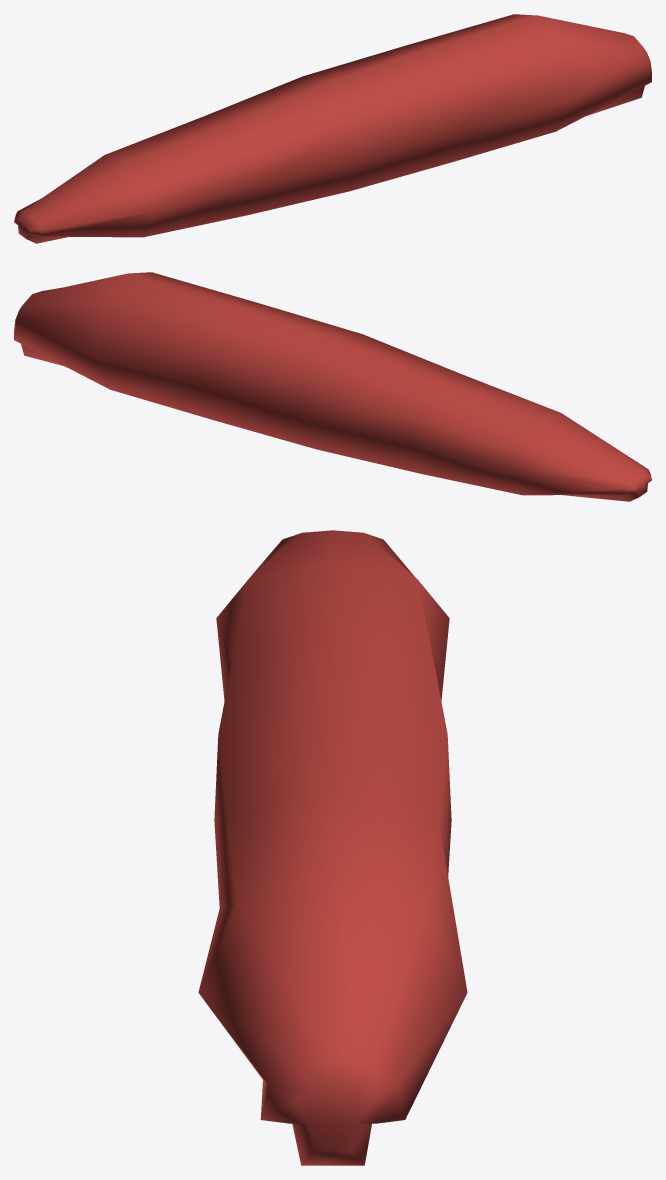
Rendered from peanut_lod2.glb.
3 views of the same model, one above another, from view 1: azimuth 30°, elevation 25°; view 2: azimuth 150°, elevation 25°; view 3: azimuth 270°, elevation 25° (orthographic). The views are drawn at different scales.
Parts seen in each view (by area): view 1: peanut_lod2; view 2: peanut_lod2; view 3: peanut_lod2.
Part boxes in pixels (box(x1,y1,x2,y2)): peanut_lod2: box(14, 14, 651, 243); peanut_lod2: box(14, 272, 651, 501); peanut_lod2: box(198, 530, 467, 1165).
Size of the model in its own units: 1 by 0.1742 by 0.1884.
